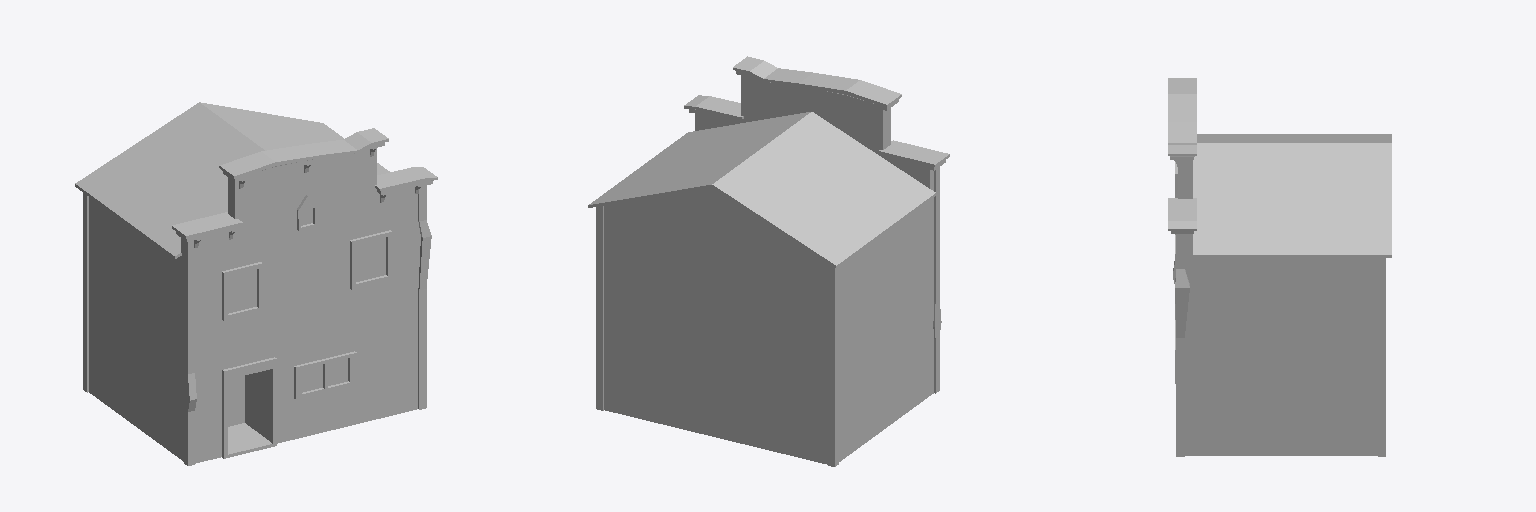
Rendered from BG_House_1.obj.
3 renders of one model, left to right at view 1: azimuth 30°, elevation 25°; view 2: azimuth 150°, elevation 25°; view 3: azimuth 270°, elevation 25°, orthographic.
Visible parts, largest first — view 1: House_Standard_04; view 2: House_Standard_04; view 3: House_Standard_04.
Part boxes in pixels (bbox=[...]): House_Standard_04: bbox=[75, 102, 437, 465]; House_Standard_04: bbox=[588, 56, 949, 466]; House_Standard_04: bbox=[1168, 78, 1391, 456].
Bounding box in the file's own units: 70.65 × 77.12 × 54.66.